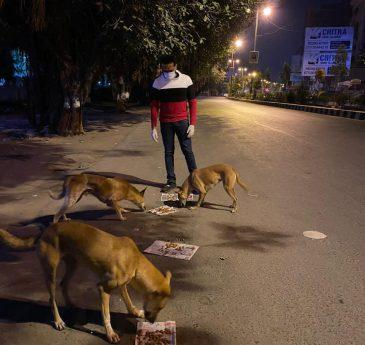normal_dogs: (0, 217, 178, 345), (46, 167, 154, 221), (175, 160, 246, 217)
